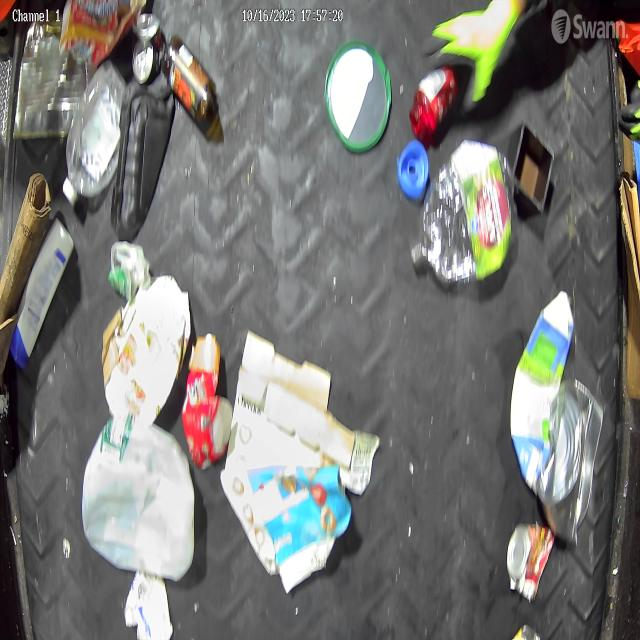can: (537, 376, 604, 544), (13, 8, 95, 140), (507, 523, 555, 601), (131, 13, 166, 85)
milk_jug: (83, 418, 195, 582)
non_white_jug: (510, 291, 575, 493)
plastic_bottle: (410, 140, 518, 284), (63, 59, 128, 207), (182, 333, 233, 470), (162, 35, 218, 126), (409, 64, 459, 140)
